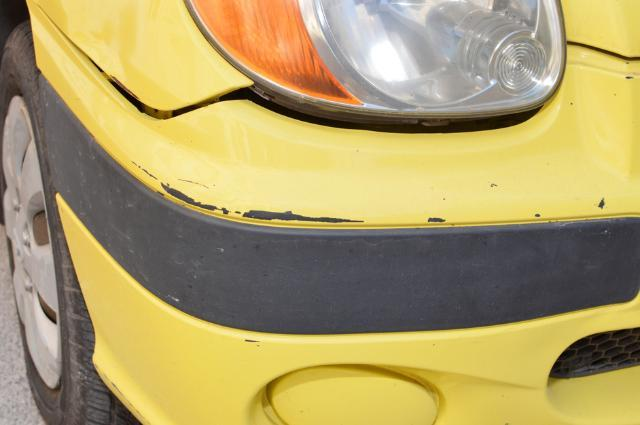Bumper: (33, 2, 640, 231)
